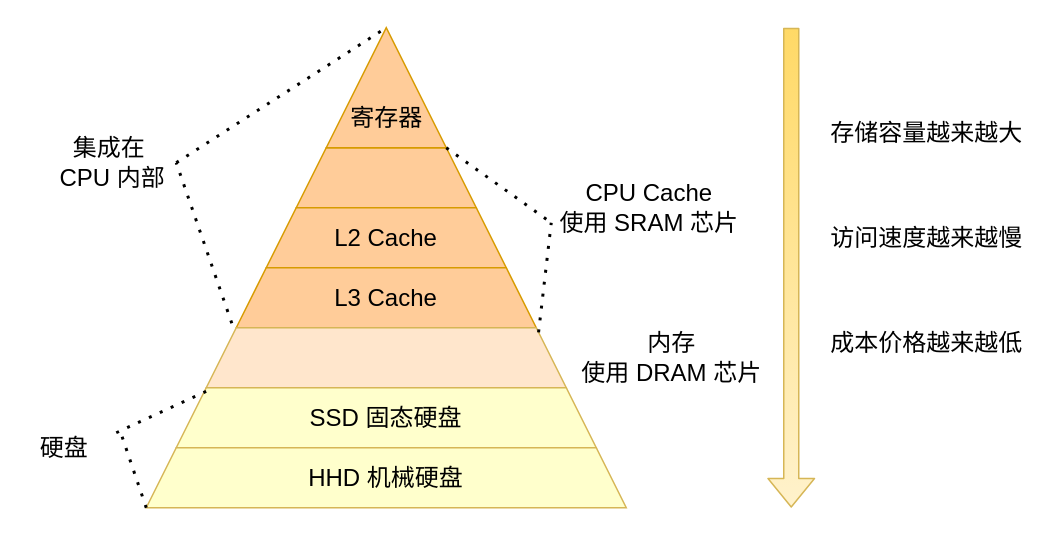
Image size: 1056x536. Some labels were removed from this diagram. The centre of each missing label's shape, as x and y in pixels:
"L1 Cache" goes at [385,177].
"Memory 内存" goes at [385,357].
